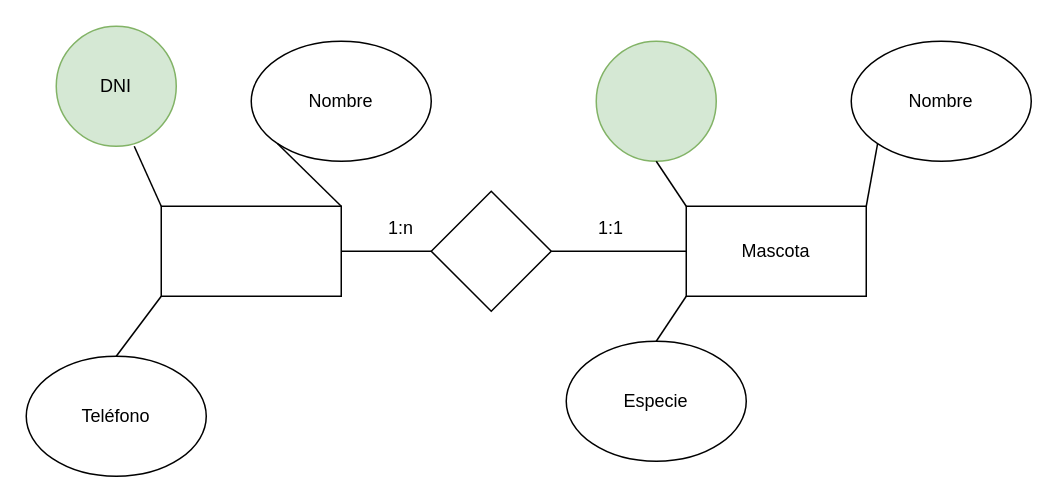
Image size: 1058x503. Some labels were removed from this diagram. The centre of each missing label's shape, as x and y in pixels:
"Dueño" belongs at (250,250).
"Microchip" belongs at (655,100).
"Pertenece" belongs at (490,250).
